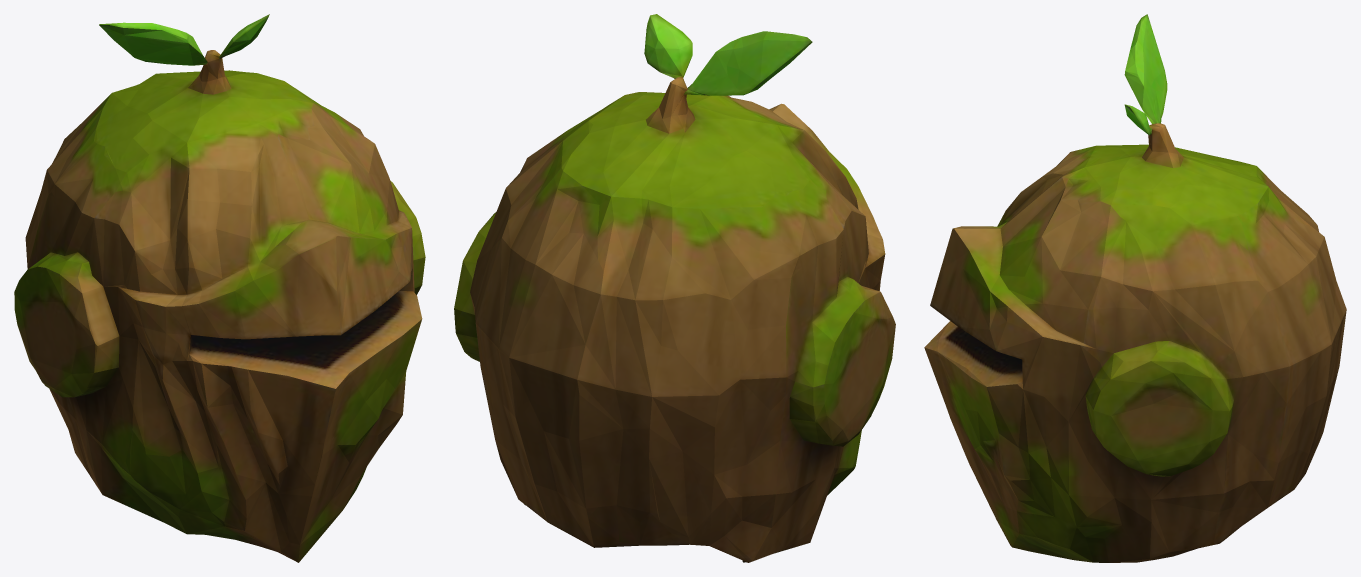
File: ecorce_casque.glb
3 views of the same model, side by side, from view 1: azimuth 30°, elevation 25°; view 2: azimuth 150°, elevation 25°; view 3: azimuth 270°, elevation 25° (orthographic). The views are drawn at different scales.
Visible parts, largest first — view 1: geometry_0; view 2: geometry_0; view 3: geometry_0.
Part boxes in pixels (left/top/right/bottom): geometry_0: left=14, top=14, right=425, bottom=562; geometry_0: left=454, top=14, right=895, bottom=562; geometry_0: left=924, top=14, right=1346, bottom=562.
Bounding box in the file's own units: 0.7006 × 0.9951 × 0.7974.
1 material, 1 textured.
